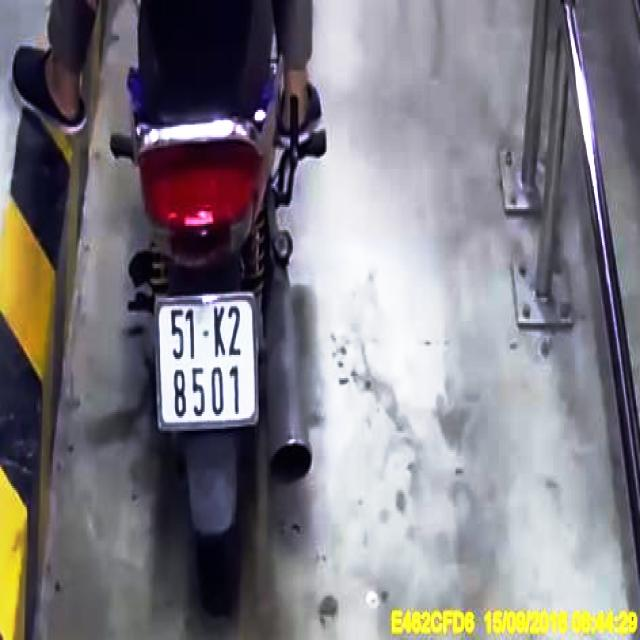license_plate: (157, 295, 259, 433)
